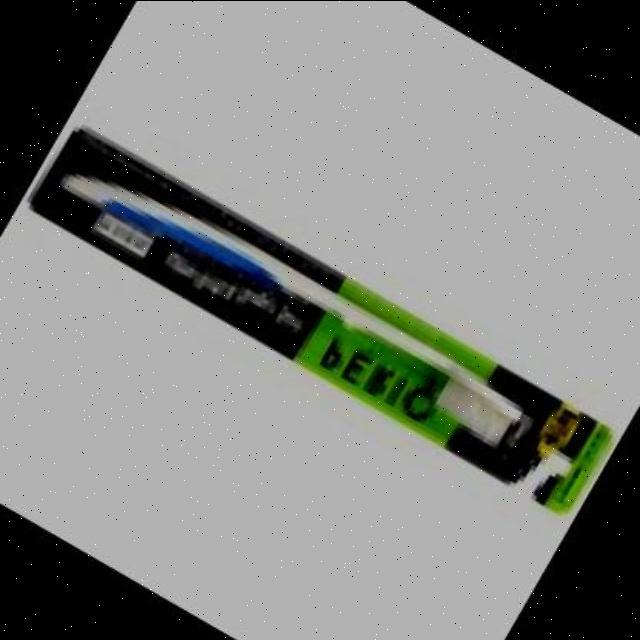toothbrush: (24, 128, 540, 484)
